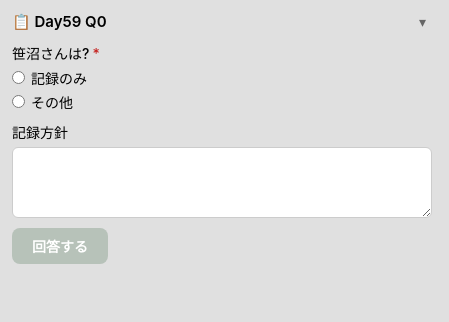
Test: FormBubble › ★ 送れなかったら理由を出し、もう一度押せる (入力は残る)
The width and height of the screenshot is (449, 322).
Click the radio button labelled "記録のみ": (18, 78) [12,71,25,84]
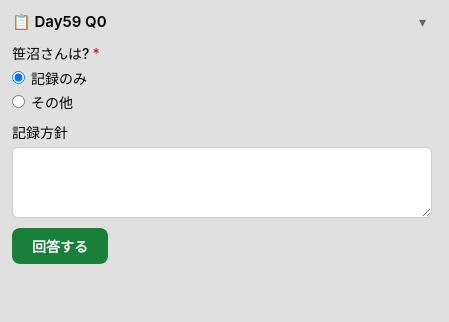
Click the button "回答する": (60, 246) [12,228,108,264]
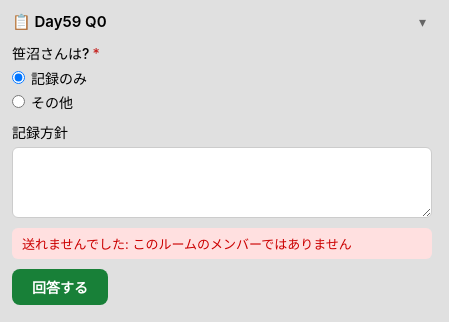
Check: the text "送れませんでした: このルームのメンバーではありません" is shown, box [12,228,432,259]
送り直せたら理由は消える
Click the button "回答する": (60, 287) [12,269,108,305]
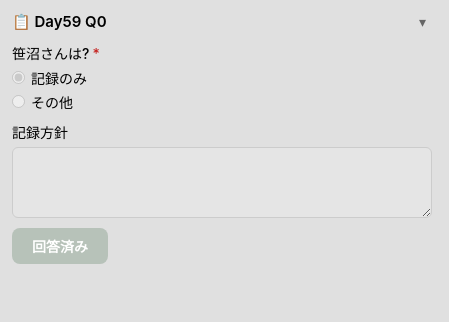
Check: the button "回答済み" is shown, box [12,228,108,264]
Check: the text "このルームのメンバーではありません" is gone
